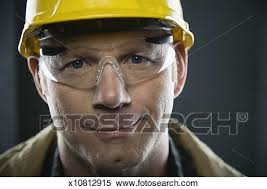Person_wearing_helmet: (14, 0, 198, 98)
